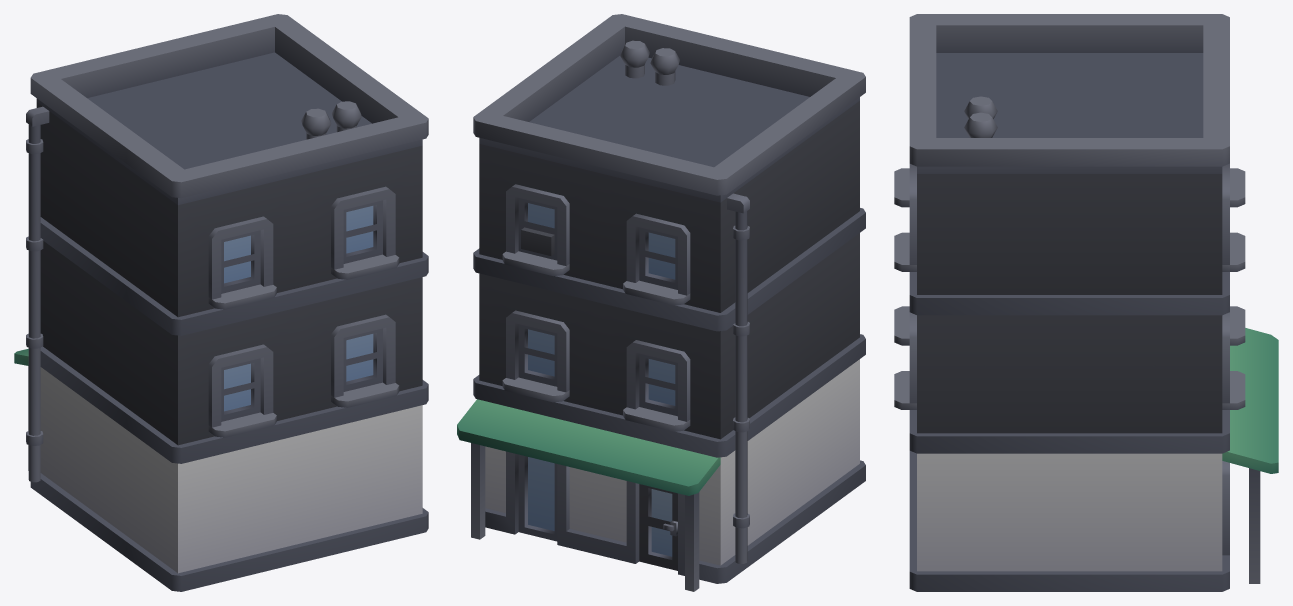
Rendered from shop-01.glb.
The picture shows the model from 3 angles, left to right: view 1: azimuth 30°, elevation 25°; view 2: azimuth 150°, elevation 25°; view 3: azimuth 270°, elevation 25°; orthographic projection. The views are drawn at different scales.
Visible parts, largest first — view 1: shop-01; view 2: shop-01; view 3: shop-01.
Boxes of the visible parts, left/top/right/bottom form: shop-01: left=14, top=14, right=428, bottom=591; shop-01: left=457, top=14, right=865, bottom=591; shop-01: left=894, top=14, right=1278, bottom=591.
Bounding box in the file's own units: 0.8767 × 1.28 × 1.
